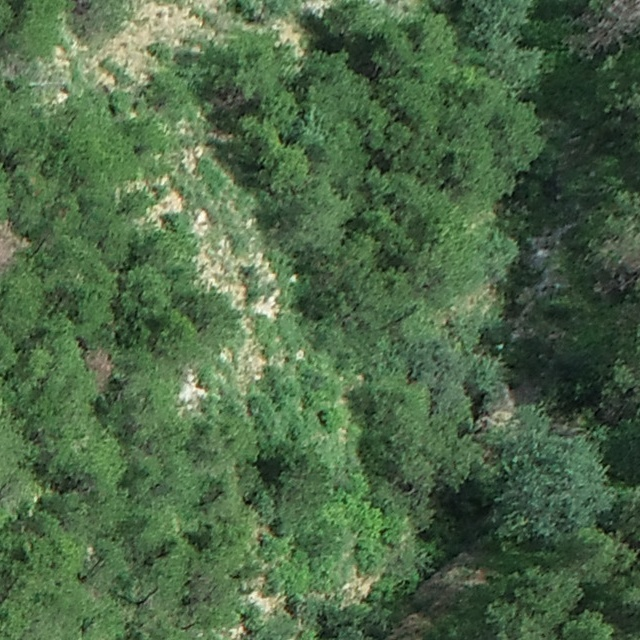unhealthy: (578, 0, 640, 56), (597, 235, 639, 296), (81, 344, 115, 387), (0, 217, 22, 275)
